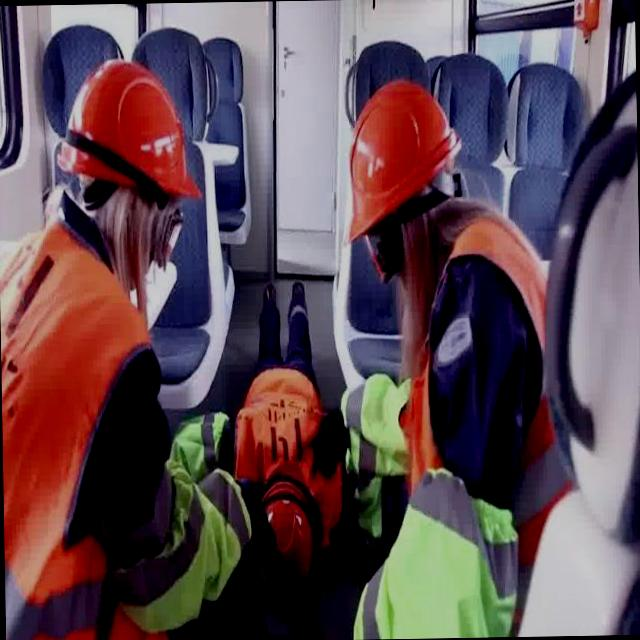vest: (400, 200, 580, 601), (0, 219, 158, 640), (348, 466, 520, 639), (106, 468, 254, 631), (234, 367, 344, 548), (342, 364, 410, 507), (170, 408, 227, 474)
